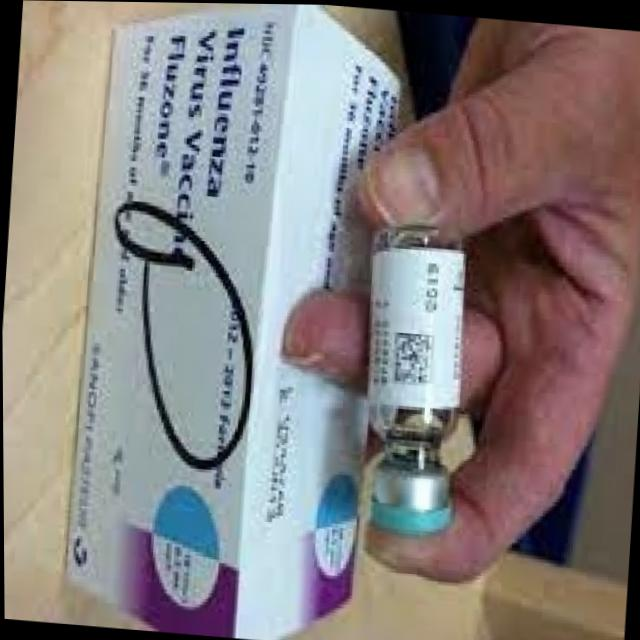datamatrix: (390, 327, 437, 387)
